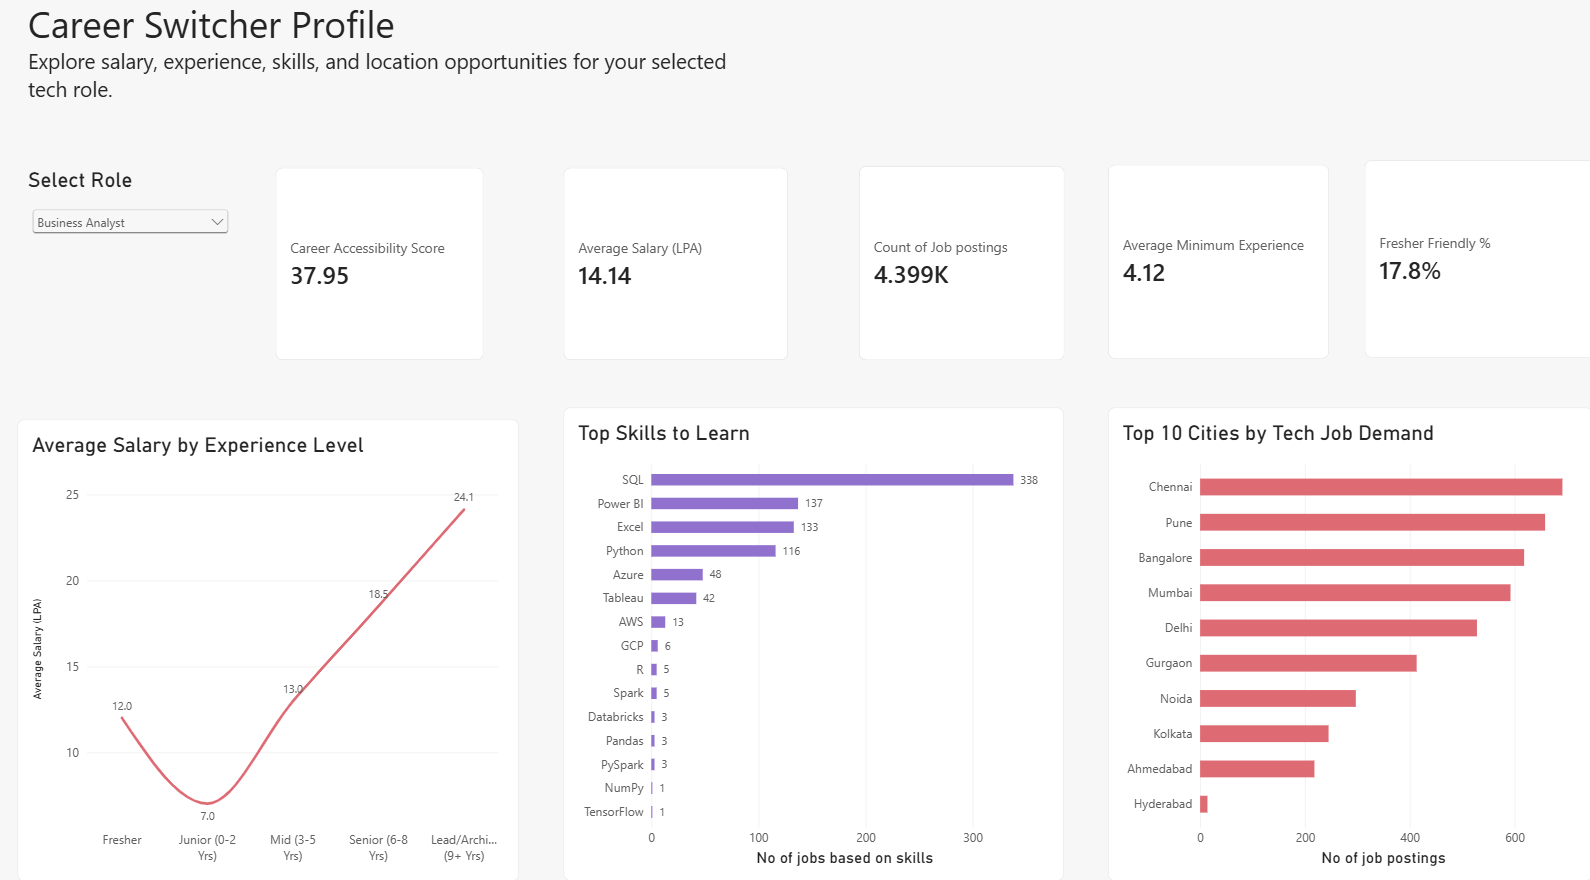

This screenshot's page, from the dashboard's own definition file:
{"tool":"powerbi","page":{"name":"Career Switcher Profile","canvas":[1920,1080],"ordinal":1},"visuals":[{"type":"lineChart","title":"Average Salary by Experience Level","fields":{"Category":["indian_tech_jobs_2026.experience_tier"],"Y":["indian_tech_jobs_2026.Average Salary (LPA)"]},"box":[68.3,487.8,581,534.4],"z":0},{"type":"slicer","title":"Select Role","fields":{"Values":["indian_tech_jobs_2026.role_category"]},"box":[79.9,196.4,237.3,101.3],"z":1000},{"type":"clusteredBarChart","title":"Top Skills to Learn","fields":{"Category":["Job Skills Cleaned.Actionable skills"],"Y":["Job Skills Cleaned.Actionable Skill Job Count"]},"box":[700.9,474.5,579.3,547.7],"z":2000},{"type":"cardVisual","title":"Accessibility Score","fields":{"Data":["Job Skills Cleaned.Career Accessibility Score"]},"box":[366.2,196.4,242,223.7],"z":3000},{"type":"cardVisual","title":"Average Salary","fields":{"Data":["indian_tech_jobs_2026.Average Salary (LPA)"]},"box":[699.2,196.4,260.3,223.7],"z":4000},{"type":"cardVisual","title":"Job Postings","fields":{"Data":["Count(Job Skills Cleaned.Job postings)"]},"box":[1042.1,194.8,238.3,225.5],"z":5000},{"type":"cardVisual","title":"Experience Required","fields":{"Data":["Job Skills Cleaned.Average Minimum Experience"]},"box":[1330.1,193.1,256.7,225.5],"z":6000},{"type":"cardVisual","title":"Fresher-Friendly","fields":{"Data":["indian_tech_jobs_2026.Fresher Friendly %"]},"box":[1628.1,188.1,278.7,229.2],"z":7000},{"type":"clusteredBarChart","title":"Top 10 Cities by Tech Job Demand","fields":{"Category":["indian_tech_jobs_2026.scraped_city"],"Y":["Count(indian_tech_jobs_2026.job_id)"]},"box":[1330.1,474.5,561,547.7],"z":8000},{"type":"textbox","box":[79.9,0,809.1,144.8],"z":9001}]}

Visuals, with their boxes in screenshot pixels (x1, y1, x2, y2), scaled from the page's 1920x1080 canvas onto the 1590x880 screenshot:
"Average Salary by Experience Level" lineChart: BBox(57, 397, 538, 833)
"Select Role" slicer: BBox(66, 160, 263, 243)
"Top Skills to Learn" clusteredBarChart: BBox(580, 387, 1060, 833)
"Accessibility Score" cardVisual: BBox(303, 160, 504, 342)
"Average Salary" cardVisual: BBox(579, 160, 795, 342)
"Job Postings" cardVisual: BBox(863, 159, 1060, 342)
"Experience Required" cardVisual: BBox(1101, 157, 1314, 341)
"Fresher-Friendly" cardVisual: BBox(1348, 153, 1579, 340)
"Top 10 Cities by Tech Job Demand" clusteredBarChart: BBox(1101, 387, 1566, 833)
textbox: BBox(66, 0, 736, 118)
